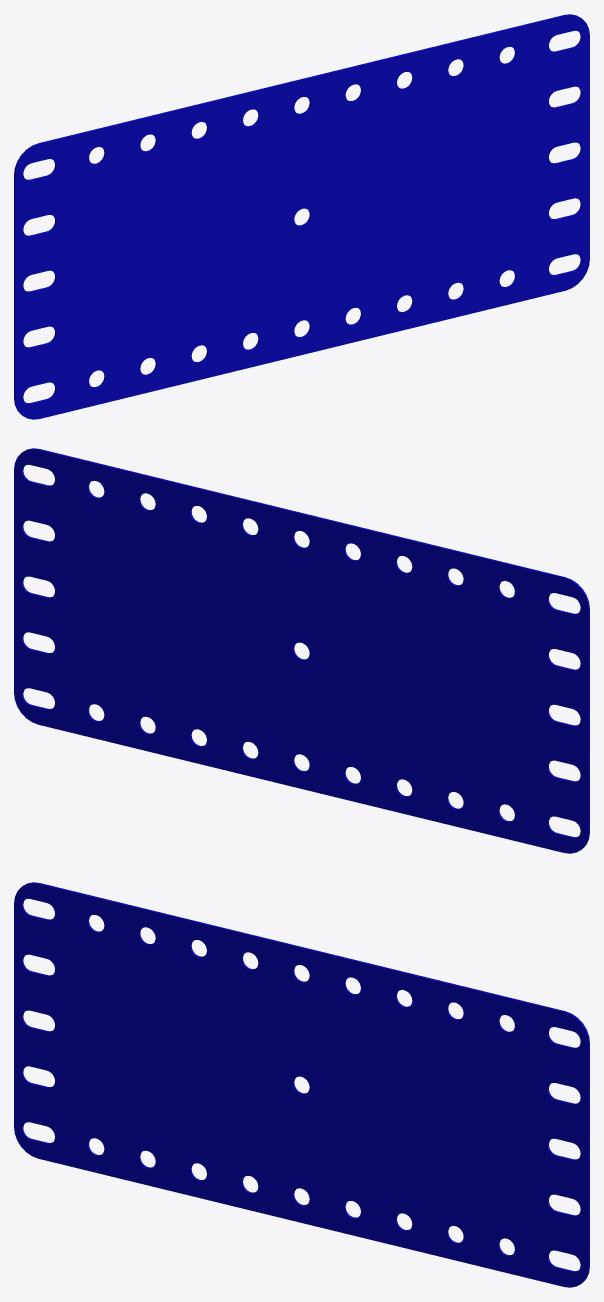
The model's file is TamPhang_11x5_NhuaMem_XanhDuong.glb.
3 renders of one model, top to bottom at view 1: azimuth 30°, elevation 25°; view 2: azimuth 150°, elevation 25°; view 3: azimuth 330°, elevation 25°, orthographic.
Parts seen in each view (by area): view 1: defaultobject; view 2: defaultobject; view 3: defaultobject.
Boxes of the visible parts, x1,y1,x2,y2 form: defaultobject: [14, 14, 589, 419]; defaultobject: [14, 448, 589, 853]; defaultobject: [14, 882, 589, 1287].
Bounding box in the file's own units: 469 × 214 × 1.68.
